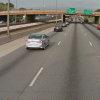Bridge: (1, 3, 95, 23)
